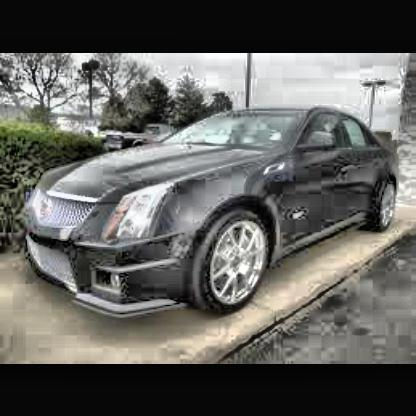Cadillac CTS-V Sedan 2012: (15, 101, 403, 324)
